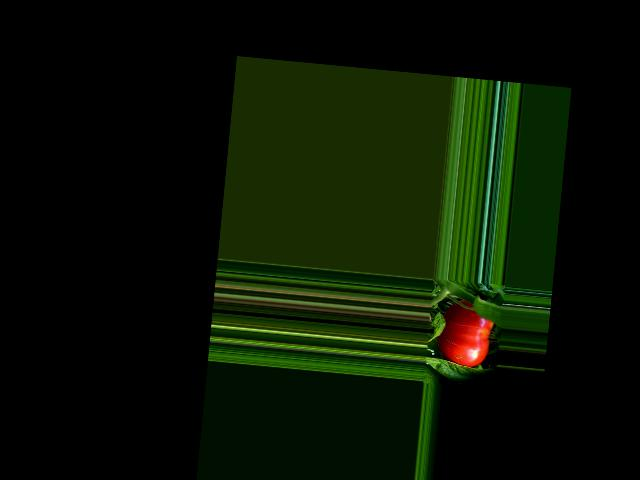tomato: (435, 297, 496, 369)
